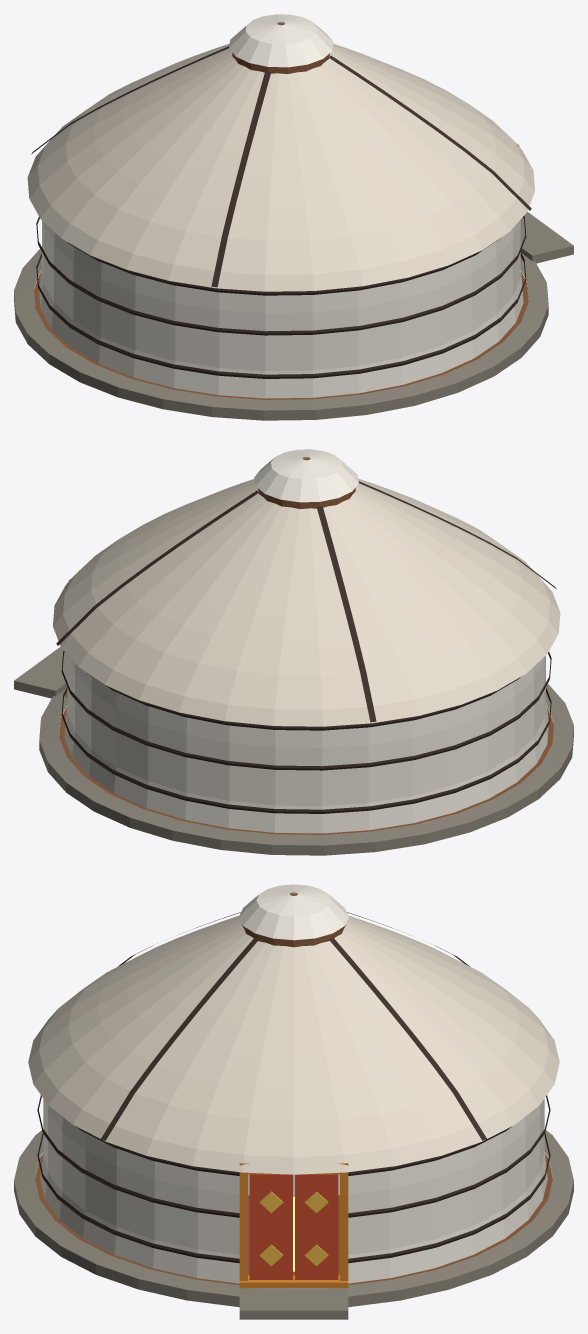
File: ger.glb
3 views of the same model, one above another, from view 1: azimuth 30°, elevation 25°; view 2: azimuth 150°, elevation 25°; view 3: azimuth 270°, elevation 25° (orthographic). The views are drawn at different scales.
Visible parts, largest first — view 1: Ger; view 2: Ger; view 3: Ger.
Part boxes in pixels (<box>): Ger: <box>14,14,573,420</box>; Ger: <box>14,449,573,855</box>; Ger: <box>14,884,573,1319</box>.
Size of the model in its own units: 7.2 by 3.92 by 6.7.
